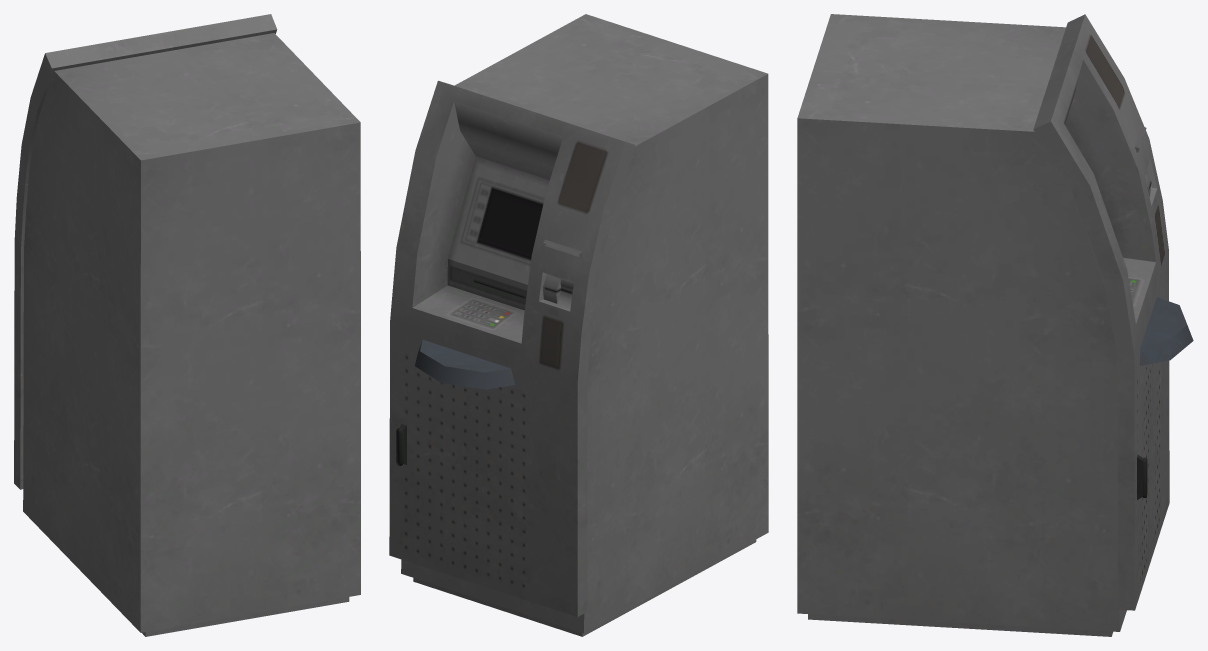
The model's file is Hotel_ATM01.fbx.
The picture shows the model from 3 angles, left to right: view 1: azimuth 30°, elevation 25°; view 2: azimuth 150°, elevation 25°; view 3: azimuth 270°, elevation 25°; orthographic projection. The views are drawn at different scales.
Visible parts, largest first — view 1: ItemBox_ATM_01; view 2: ItemBox_ATM_01; view 3: ItemBox_ATM_01.
Boxes of the visible parts, box(x1,y1,x2,y2) form: ItemBox_ATM_01: box(14, 14, 360, 636); ItemBox_ATM_01: box(389, 14, 768, 636); ItemBox_ATM_01: box(797, 14, 1193, 636).
Size of the model in its own units: 88.78 by 171 by 119.
Materials: 1 (1 with a texture image).
